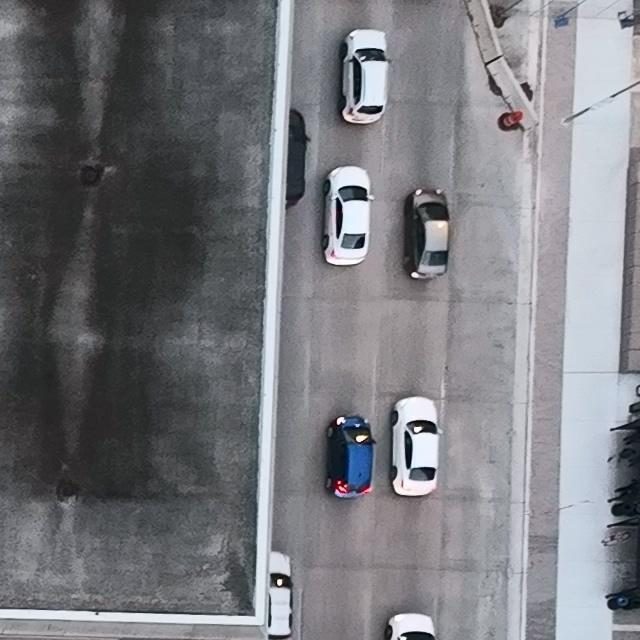car: (390, 396, 444, 497), (322, 165, 375, 266), (340, 29, 392, 125), (325, 415, 377, 499), (404, 189, 450, 281), (285, 109, 311, 207), (265, 551, 293, 640), (385, 613, 436, 640)
